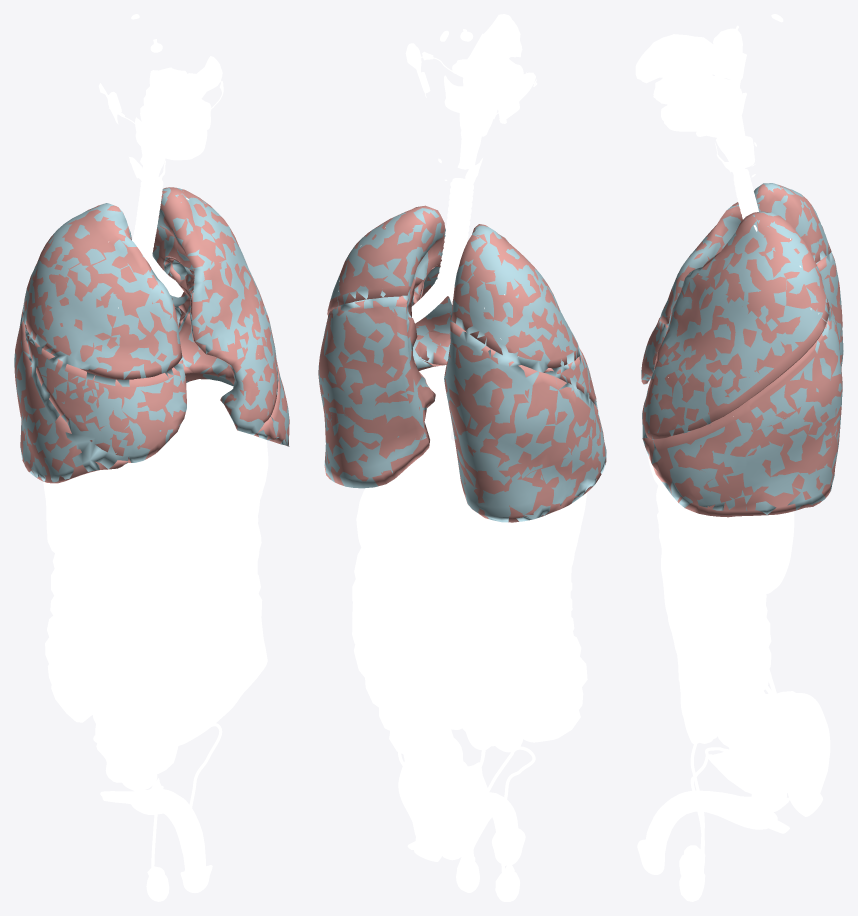
Rendered from organs.glb.
The picture shows the model from 3 angles, left to right: view 1: azimuth 30°, elevation 25°; view 2: azimuth 150°, elevation 25°; view 3: azimuth 270°, elevation 25°; orthographic projection. The views are drawn at different scales.
Visible parts, largest first — view 1: Greater omentum, Pleura, Liver, Superior lobe of right lung, Superior lobe of left lung, Middle lobe of right lung, Ascending colon, Inferior lobe of right lung, Stomach, Corpus cavernosum of penis, Gingiva, Inferior lobe of left lung (+8 smaller); view 2: Pleura, Jejunum, Inferior lobe of right lung, Inferior lobe of left lung, Ascending colon, Descending colon, Superior lobe of left lung, Superior lobe of right lung, Sigmoid colon, Liver, Kidney.l, Kidney.r (+23 smaller); view 3: Pleura, Superior lobe of left lung, Inferior lobe of left lung, Descending colon, Greater omentum, Sigmoid colon, Corpus cavernosum of penis, Superior lobe of right lung, Mucosa of nasal cavity, Kidney.l, Urinary bladder, Gingiva (+17 smaller).
Part boxes in pixels (left/top/right/bottom): Greater omentum: left=64, top=488, right=267, bottom=748; Pleura: left=14, top=187, right=289, bottom=482; Liver: left=43, top=379, right=260, bottom=558; Superior lobe of right lung: left=24, top=205, right=182, bottom=379; Superior lobe of left lung: left=153, top=187, right=277, bottom=430; Middle lobe of right lung: left=24, top=324, right=186, bottom=462; Ascending colon: left=45, top=553, right=97, bottom=722; Inferior lobe of right lung: left=14, top=303, right=127, bottom=483; Stomach: left=169, top=438, right=268, bottom=534; Corpus cavernosum of penis: left=100, top=778, right=205, bottom=871; Gingiva: left=135, top=98, right=211, bottom=160; Inferior lobe of left lung: left=175, top=307, right=289, bottom=446; Pleura: left=318, top=207, right=606, bottom=522; Jejunum: left=390, top=529, right=532, bottom=752; Inferior lobe of right lung: left=444, top=321, right=606, bottom=522; Inferior lobe of left lung: left=318, top=296, right=442, bottom=486; Ascending colon: left=515, top=566, right=587, bottom=742; Descending colon: left=352, top=548, right=464, bottom=776; Superior lobe of left lung: left=327, top=205, right=450, bottom=365; Superior lobe of right lung: left=451, top=224, right=577, bottom=368; Sigmoid colon: left=398, top=730, right=462, bottom=861; Liver: left=419, top=365, right=586, bottom=576; Kidney.l: left=356, top=484, right=417, bottom=575; Kidney.r: left=485, top=525, right=534, bottom=617; Pleura: left=641, top=183, right=843, bottom=514; Superior lobe of left lung: left=642, top=212, right=829, bottom=439; Inferior lobe of left lung: left=642, top=301, right=842, bottom=517; Descending colon: left=713, top=530, right=817, bottom=759; Greater omentum: left=657, top=500, right=726, bottom=744; Sigmoid colon: left=788, top=693, right=830, bottom=816; Corpus cavernosum of penis: left=644, top=790, right=789, bottom=856; Superior lobe of right lung: left=660, top=184, right=831, bottom=324; Mucosa of nasal cavity: left=635, top=34, right=710, bottom=83; Kidney.l: left=753, top=511, right=794, bottom=594; Urinary bladder: left=708, top=751, right=797, bottom=797; Gingiva: left=653, top=74, right=717, bottom=131.
Bounding box in the file's own units: 0.2618 × 0.8933 × 0.192.
